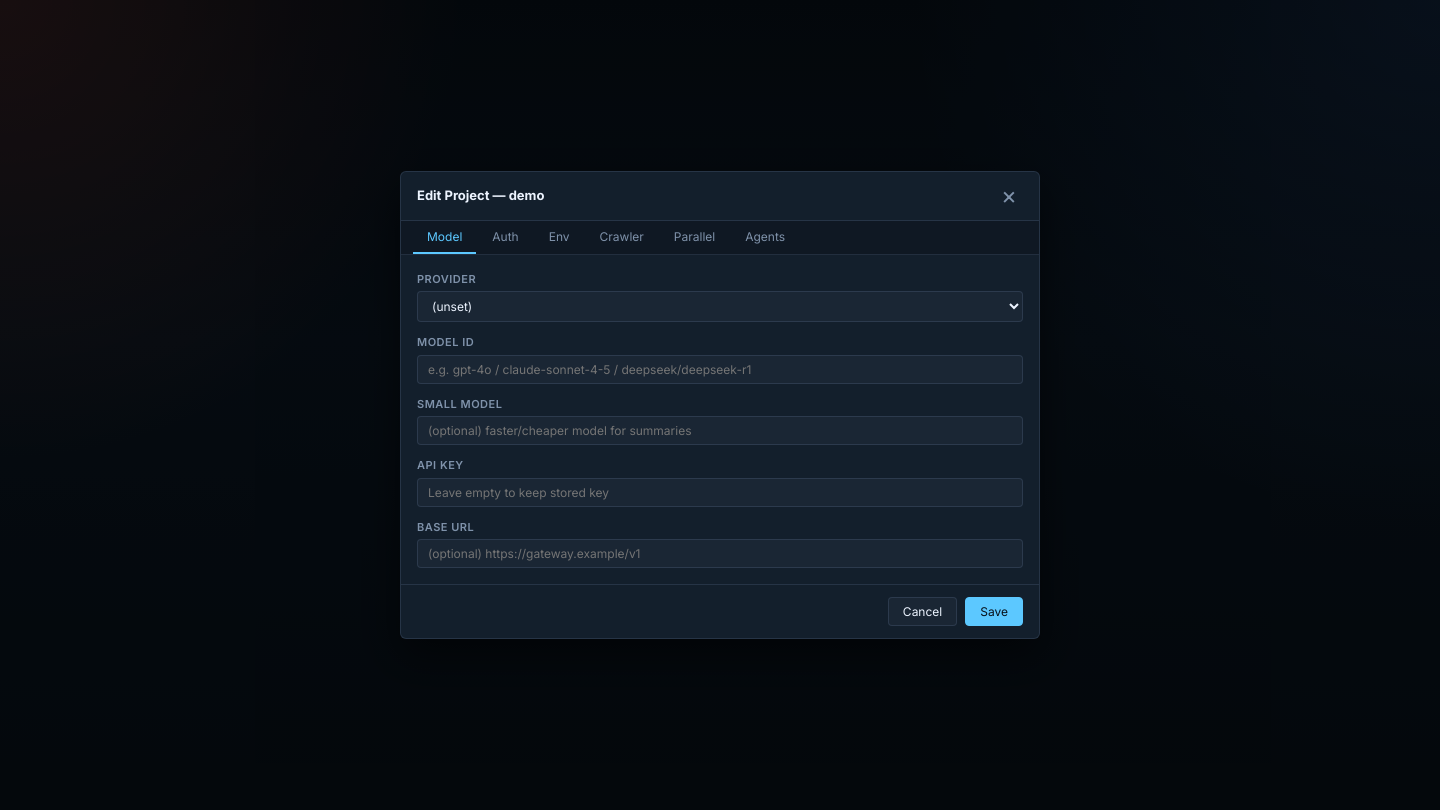
Test case: ProjectEditModal › surfaces save error to user
Click the button "Save" at (994, 612), box [965,597,1023,626]
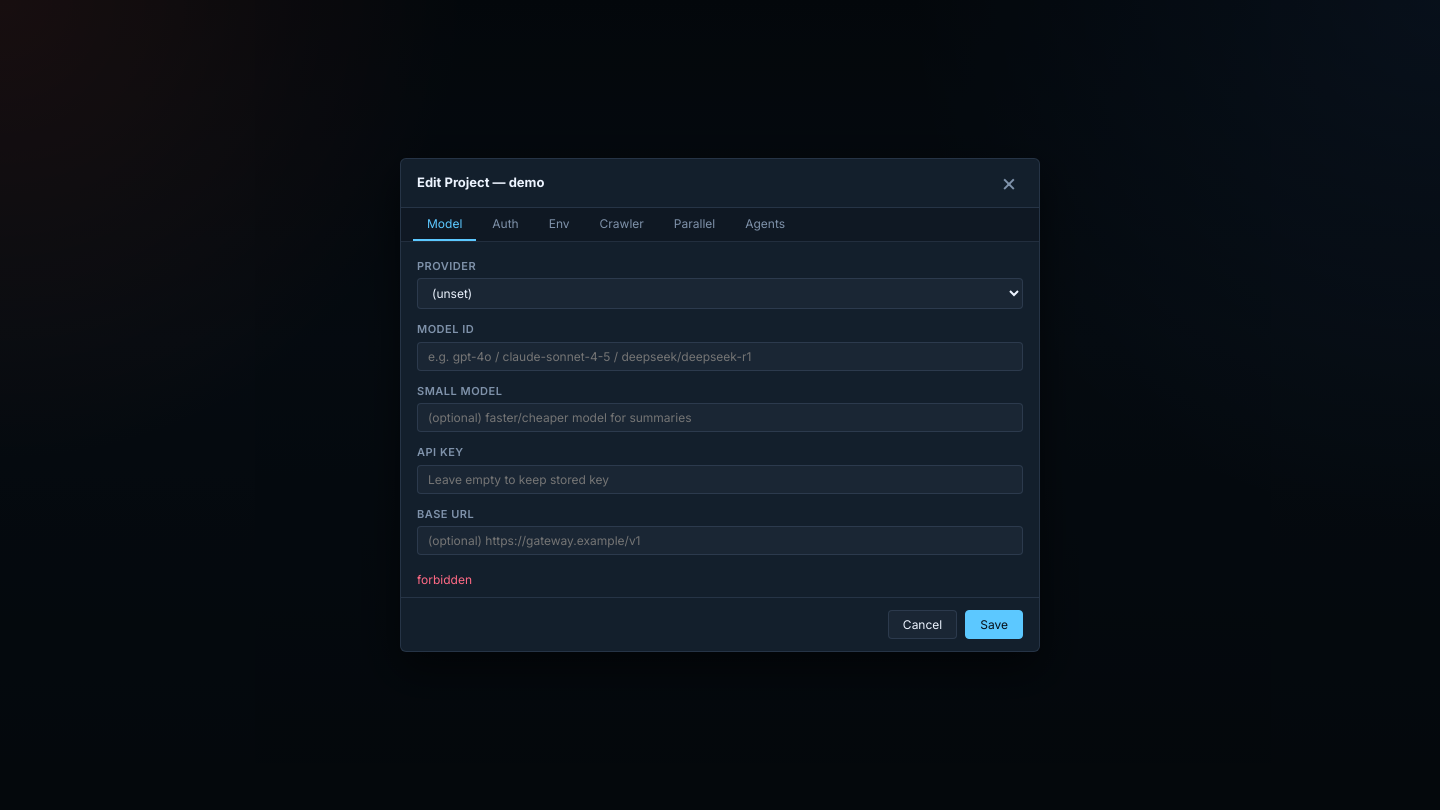
Check: the message reads "forbidden", box [417,572,472,587]
